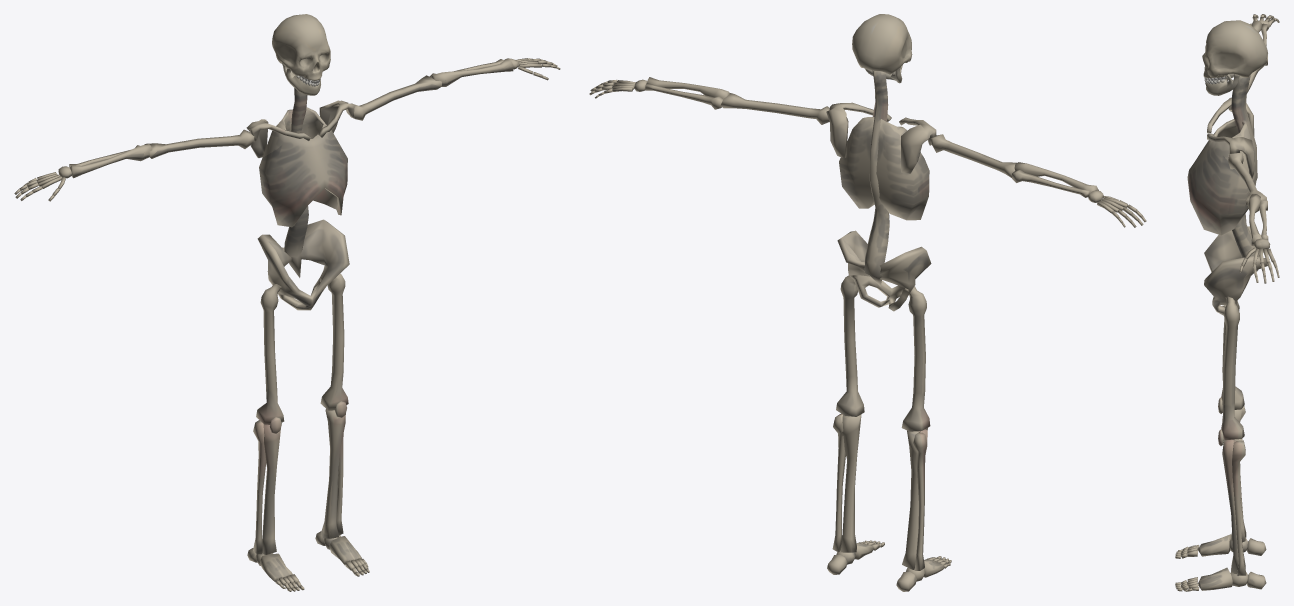
Rendered from human_skeleton_asset.glb.
3 views of the same model, side by side, from view 1: azimuth 30°, elevation 25°; view 2: azimuth 150°, elevation 25°; view 3: azimuth 270°, elevation 25° (orthographic).
Parts seen in each view (by area): view 1: spine_0; view 2: spine_0; view 3: spine_0.
Boxes of the visible parts, box(x1,y1,x2,y2) form: spine_0: box(14, 14, 560, 591); spine_0: box(589, 14, 1146, 591); spine_0: box(1175, 14, 1279, 591).
Bounding box in the file's own units: 2.05 × 1.97 × 0.3393.
2 materials, 2 textured.
